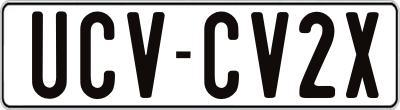2: (298, 11, 338, 99)
C: (204, 12, 245, 102), (77, 9, 115, 96)
U: (29, 9, 64, 98)
V: (126, 10, 165, 98), (248, 10, 286, 99)
X: (344, 11, 378, 99)
